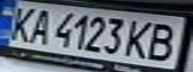1: (66, 11, 90, 51)
2: (84, 12, 109, 53)
3: (103, 15, 130, 56)
4: (48, 9, 75, 48)
A: (21, 6, 57, 46)
B: (139, 20, 190, 63)
K: (121, 17, 160, 61), (0, 3, 42, 43)
